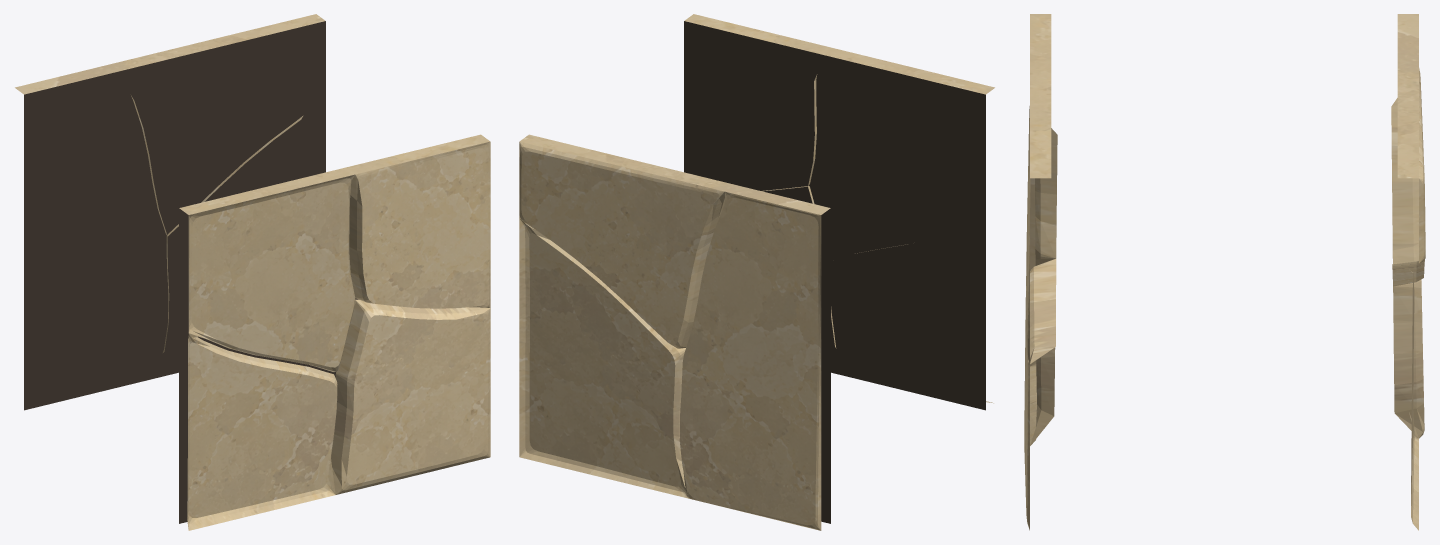
The model's file is ground_square_strip_10.glb.
3 views of the same model, side by side, from view 1: azimuth 30°, elevation 25°; view 2: azimuth 150°, elevation 25°; view 3: azimuth 270°, elevation 25° (orthographic). The views are drawn at different scales.
Visible parts, largest first — view 1: GroundSquareStrip10_Body; view 2: GroundSquareStrip10_Body; view 3: GroundSquareStrip10_Body.
Part boxes in pixels (x1,y1,x2,y2): GroundSquareStrip10_Body: (15,14,490,530); GroundSquareStrip10_Body: (519,14,994,530); GroundSquareStrip10_Body: (1024,14,1425,530).
Bounding box in the file's own units: 1 × 1 × 1.03.
9 materials, 8 textured.
